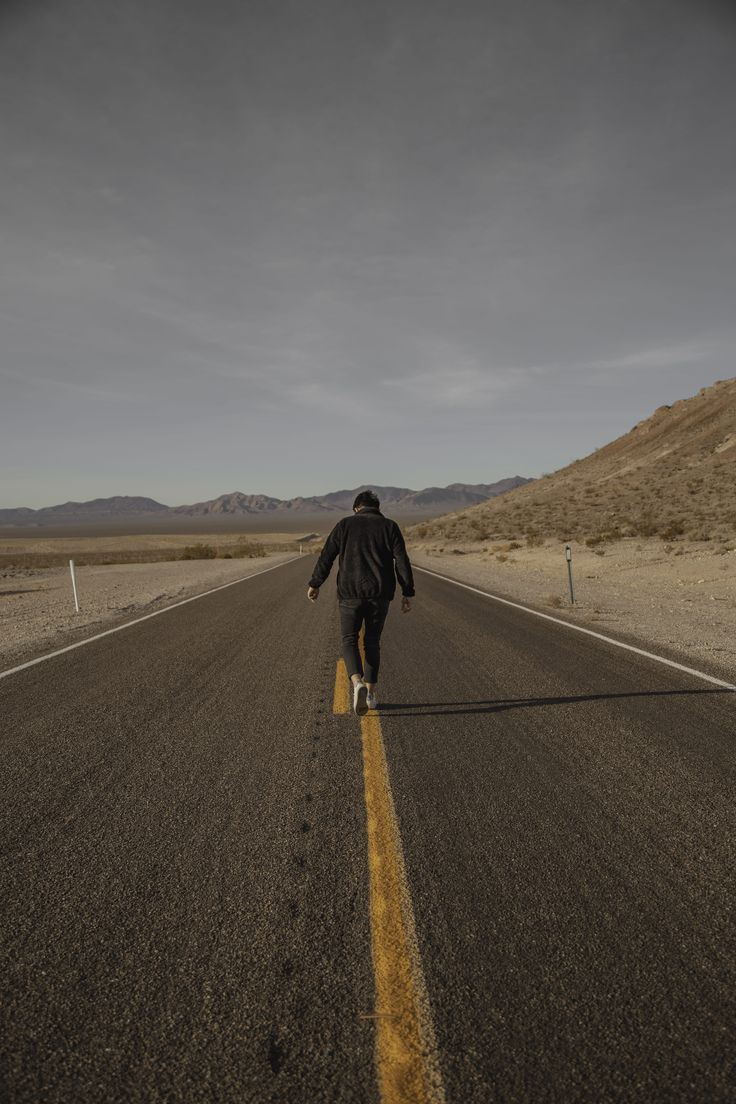Person: (304, 487, 427, 718)
